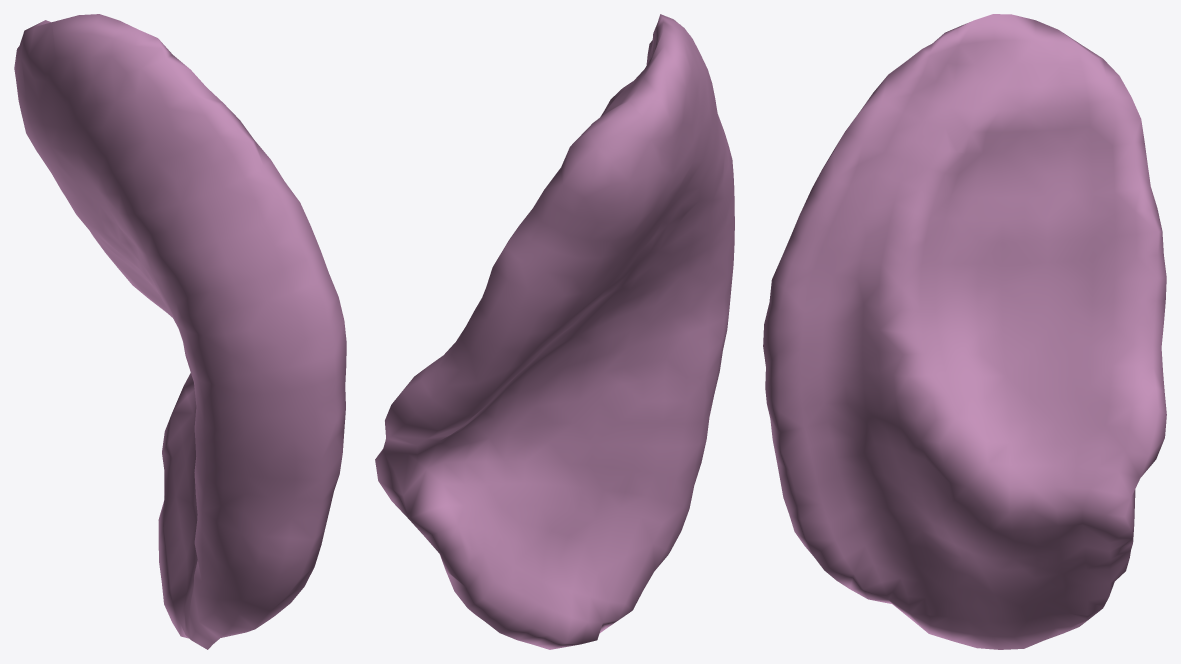
The picture shows the model from 3 angles, left to right: view 1: azimuth 30°, elevation 25°; view 2: azimuth 150°, elevation 25°; view 3: azimuth 270°, elevation 25°; orthographic projection. The views are drawn at different scales.
Visible parts, largest first — view 1: 右侧豆状核; view 2: 右侧豆状核; view 3: 右侧豆状核.
Part boxes in pixels (<box>): 右侧豆状核: <box>14,14,346,649</box>; 右侧豆状核: <box>375,14,734,649</box>; 右侧豆状核: <box>763,14,1166,649</box>.
Bounding box in the file's own units: 0.0327 × 0.0771 × 0.0473.
